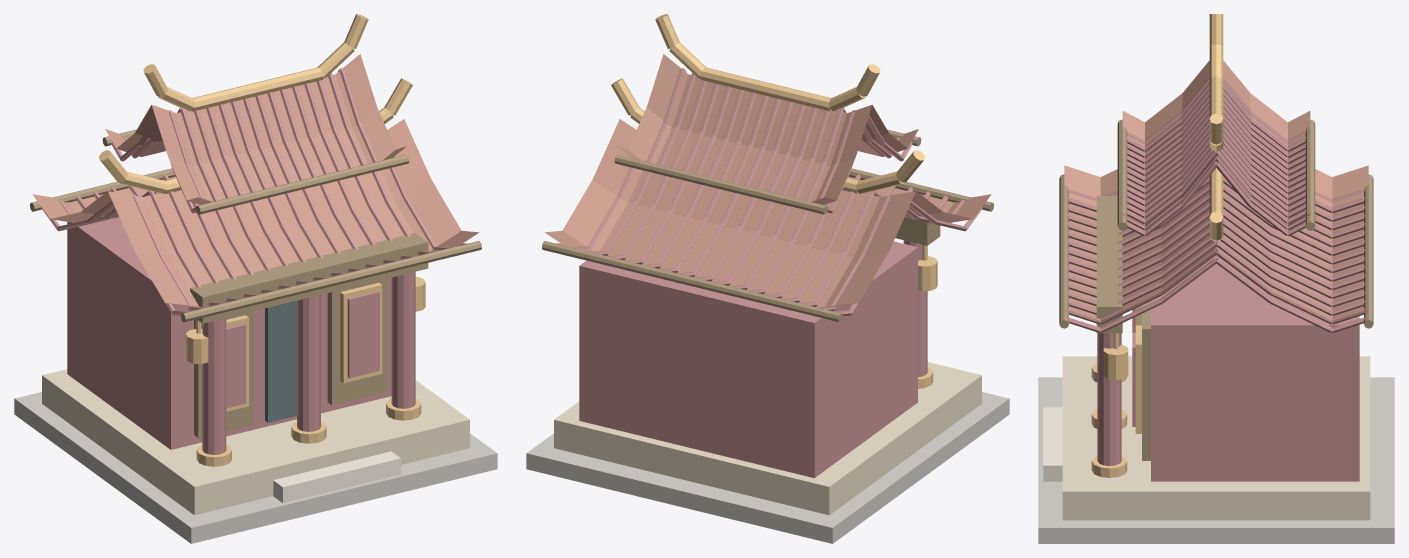
File: town-temple-small.glb
3 views of the same model, side by side, from view 1: azimuth 30°, elevation 25°; view 2: azimuth 150°, elevation 25°; view 3: azimuth 270°, elevation 25° (orthographic).
Parts seen in each view (by area): view 1: paving; view 2: paving; view 3: paving.
Part boxes in pixels (x1,y1,x2,y2): paving: (14, 14, 497, 543); paving: (526, 14, 1009, 543); paving: (1038, 14, 1394, 543).
Bounding box in the file's own units: 2.24 × 2.76 × 2.2.
1 material, 1 textured.
